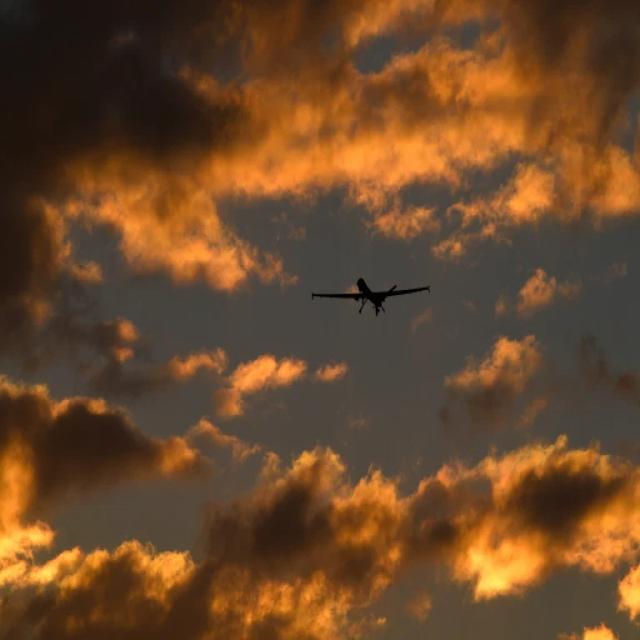MIL_Plane: (310, 276, 432, 316)
